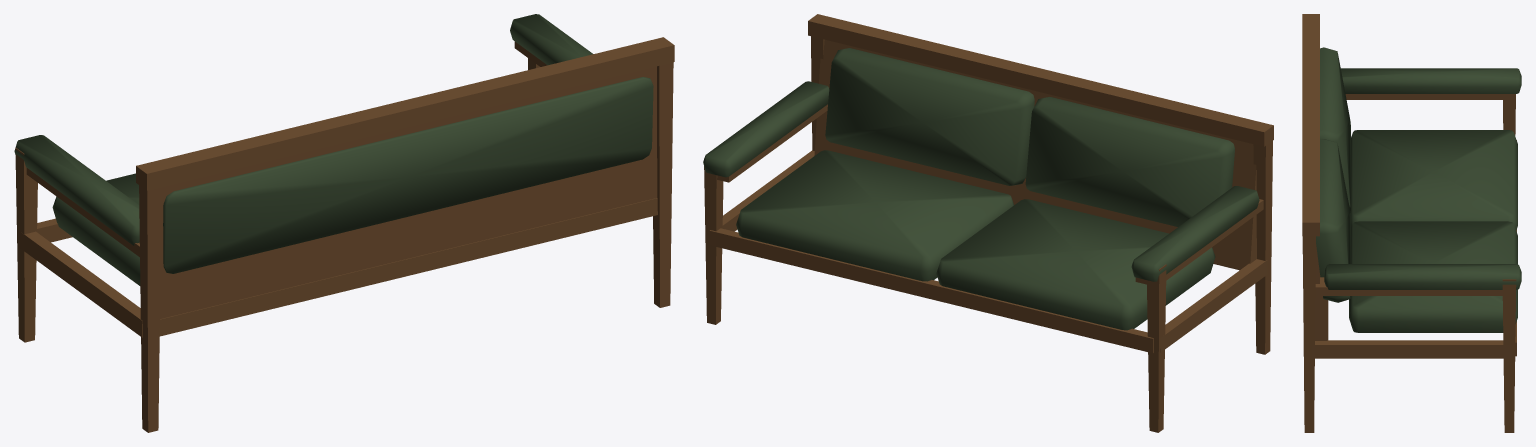
File: parametric-sofa-1st-pub.glb
3 views of the same model, side by side, from view 1: azimuth 30°, elevation 25°; view 2: azimuth 150°, elevation 25°; view 3: azimuth 270°, elevation 25° (orthographic). The views are drawn at different scales.
Parts seen in each view (by area): view 1: parametric-sofa-1st-pub; view 2: parametric-sofa-1st-pub; view 3: parametric-sofa-1st-pub.
Part boxes in pixels (box(x1,y1,x2,y2)): parametric-sofa-1st-pub: box(14, 14, 674, 432); parametric-sofa-1st-pub: box(703, 14, 1273, 432); parametric-sofa-1st-pub: box(1302, 14, 1521, 432).
Size of the model in its own units: 1.8 by 0.85 by 0.8.
